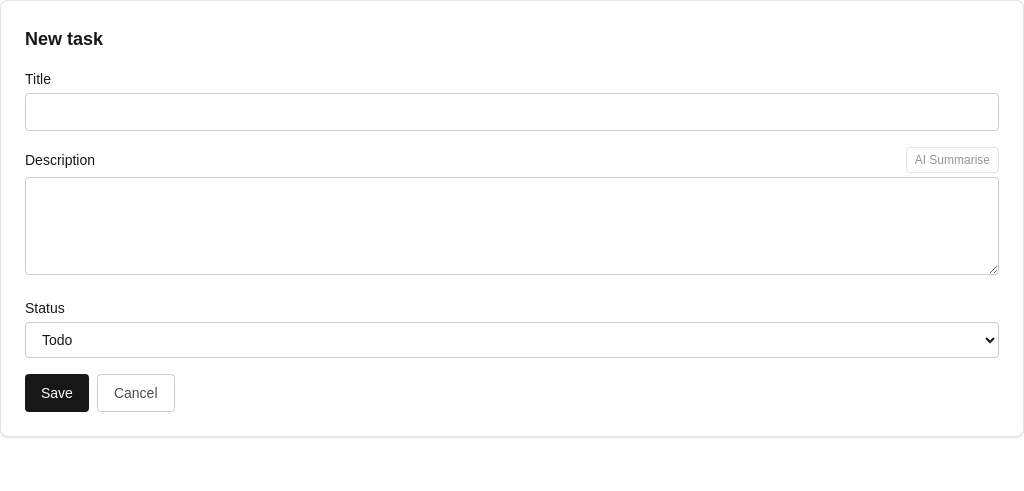
it: TaskForm › renders the backend field error when submitting a blank title
Click the button "Save" at (57, 393), box [25,374,89,412]
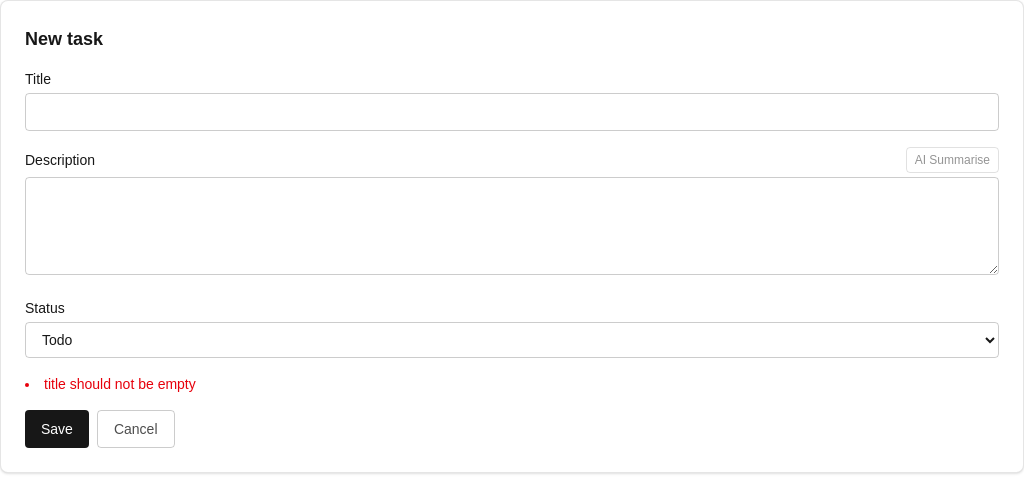
Expected: the message reads "title should not be empty", [44,376,196,392]
